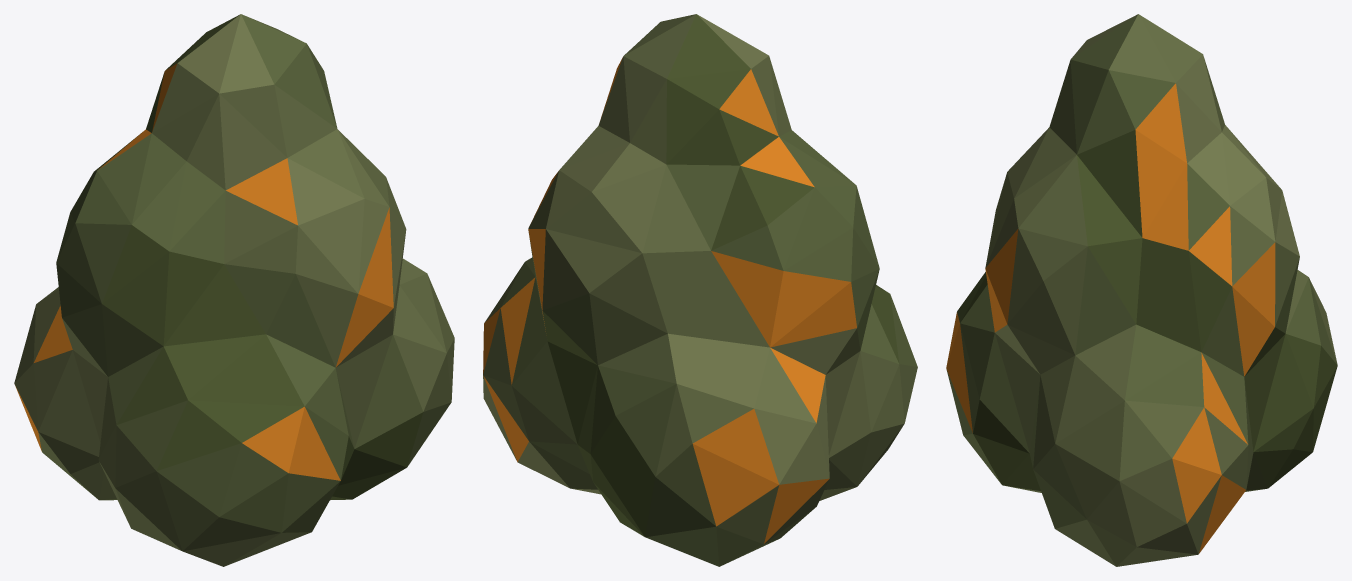
File: bud-2g.glb
3 views of the same model, side by side, from view 1: azimuth 30°, elevation 25°; view 2: azimuth 150°, elevation 25°; view 3: azimuth 270°, elevation 25° (orthographic).
Visible parts, largest first — view 1: BudMaster_2g; view 2: BudMaster_2g; view 3: BudMaster_2g.
Part boxes in pixels (bbox=[...]): BudMaster_2g: bbox=[14, 14, 454, 566]; BudMaster_2g: bbox=[483, 14, 917, 566]; BudMaster_2g: bbox=[946, 14, 1337, 566].
Size of the model in its own units: 0.0475 by 0.061 by 0.0429.
